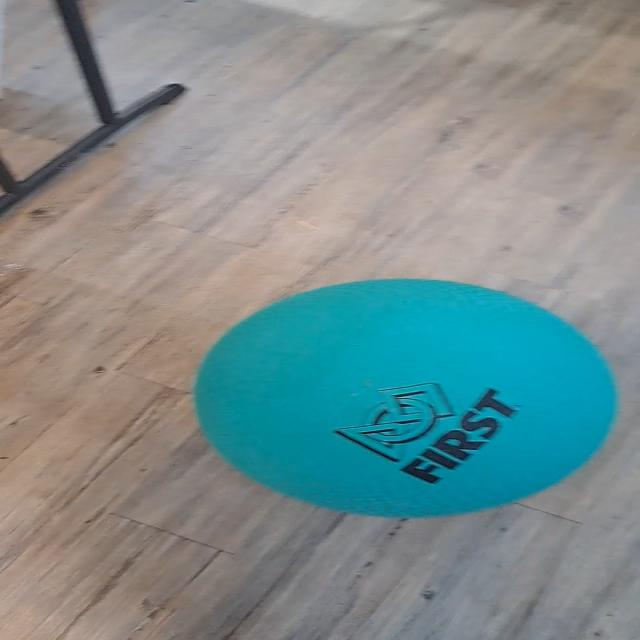ALGAE: (191, 276, 620, 520)
